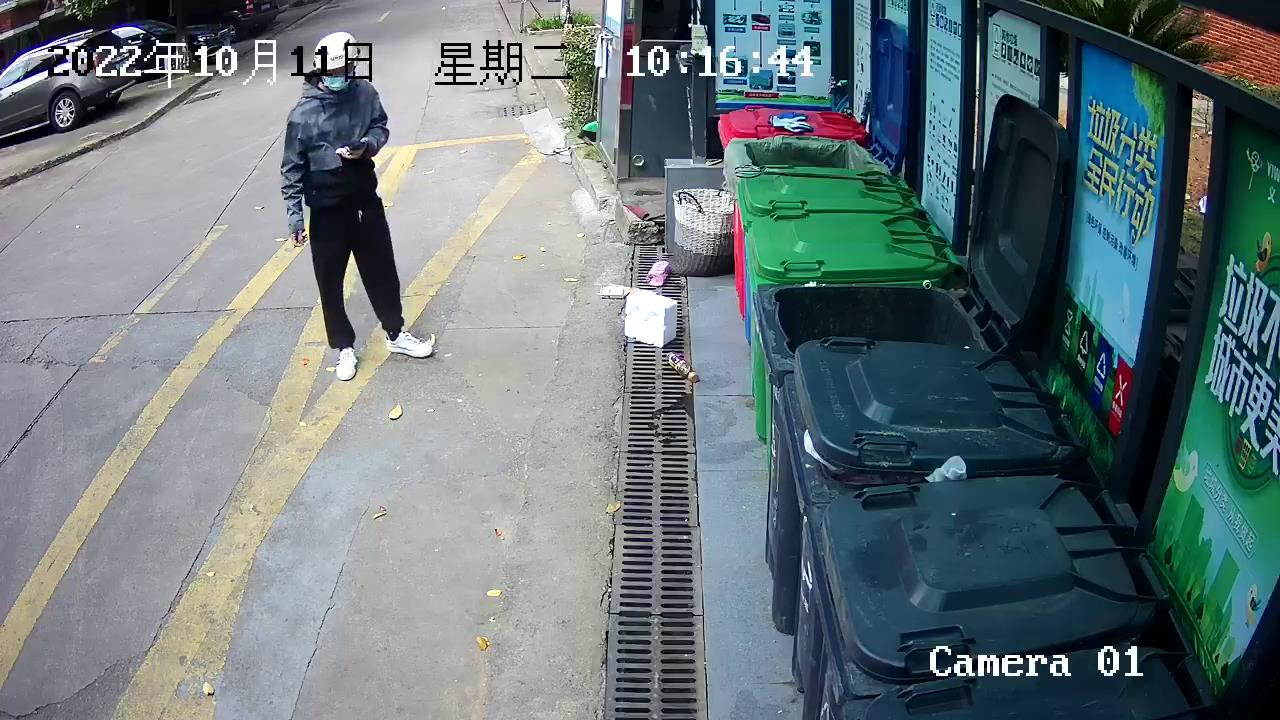person: (274, 26, 441, 387)
suliaozhipin: (663, 346, 702, 387), (641, 255, 673, 291)
zhizhipin: (622, 287, 681, 350)
